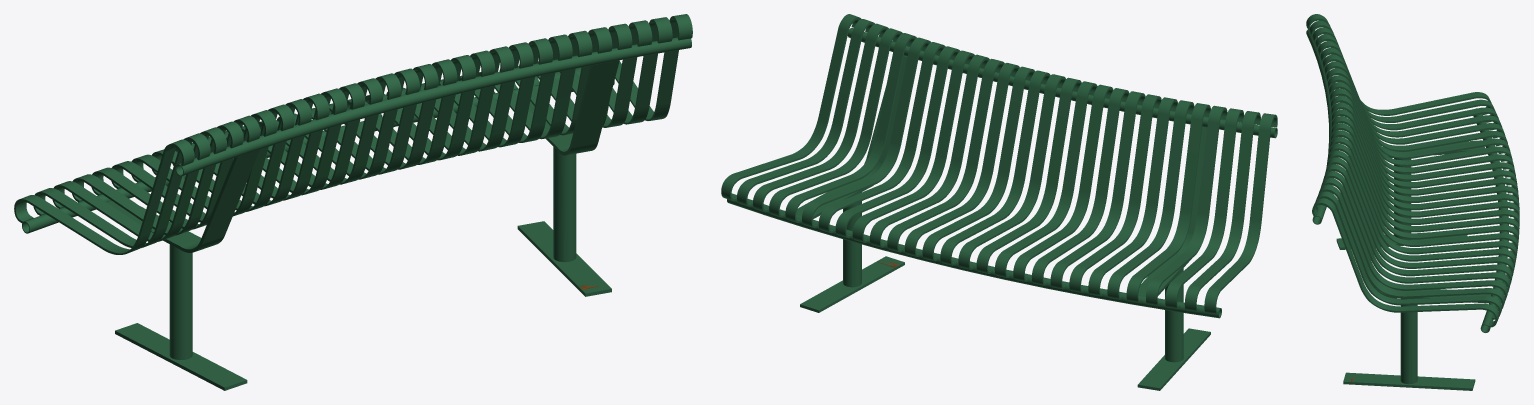
The picture shows the model from 3 angles, left to right: view 1: azimuth 30°, elevation 25°; view 2: azimuth 150°, elevation 25°; view 3: azimuth 270°, elevation 25°; orthographic projection. The views are drawn at different scales.
Visible parts, largest first — view 1: mesh7_mesh7-geometry, mesh3_mesh3-geometry, mesh6_mesh6-geometry, mesh1_mesh1-geometry, mesh22_mesh22-geometry, mesh27_mesh27-geometry, mesh26_mesh26-geometry, mesh30_mesh30-geometry, mesh21_mesh21-geometry, mesh24_mesh24-geometry, mesh16_mesh16-geometry, mesh15_mesh15-geometry (+20 smaller); view 2: mesh3_mesh3-geometry, mesh7_mesh7-geometry, mesh4_mesh4-geometry, mesh30_mesh30-geometry, mesh11_mesh11-geometry, mesh9_mesh9-geometry, mesh20_mesh20-geometry, mesh10_mesh10-geometry, mesh27_mesh27-geometry, mesh8_mesh8-geometry, mesh28_mesh28-geometry, mesh1_mesh1-geometry (+20 smaller); view 3: mesh3_mesh3-geometry, mesh21_mesh21-geometry, mesh32_mesh32-geometry, mesh25_mesh25-geometry, mesh19_mesh19-geometry, mesh23_mesh23-geometry, mesh24_mesh24-geometry, mesh16_mesh16-geometry, mesh15_mesh15-geometry, mesh17_mesh17-geometry, mesh14_mesh14-geometry, mesh12_mesh12-geometry (+20 smaller).
Part boxes in pixels (x1,y1,x2,y2): mesh7_mesh7-geometry: [107, 149, 259, 390]; mesh3_mesh3-geometry: [517, 60, 619, 296]; mesh6_mesh6-geometry: [175, 37, 691, 176]; mesh1_mesh1-geometry: [14, 139, 194, 254]; mesh22_mesh22-geometry: [33, 133, 210, 247]; mesh27_mesh27-geometry: [52, 127, 226, 241]; mesh26_mesh26-geometry: [72, 121, 243, 235]; mesh30_mesh30-geometry: [91, 115, 260, 229]; mesh21_mesh21-geometry: [615, 14, 692, 120]; mesh24_mesh24-geometry: [478, 30, 592, 139]; mesh16_mesh16-geometry: [459, 34, 572, 142]; mesh15_mesh15-geometry: [439, 38, 552, 147]; mesh3_mesh3-geometry: [796, 55, 907, 312]; mesh7_mesh7-geometry: [1137, 126, 1210, 390]; mesh4_mesh4-geometry: [727, 193, 1221, 318]; mesh30_mesh30-geometry: [1126, 103, 1210, 302]; mesh11_mesh11-geometry: [1107, 100, 1194, 299]; mesh9_mesh9-geometry: [1088, 97, 1177, 296]; mesh20_mesh20-geometry: [1050, 91, 1145, 289]; mesh10_mesh10-geometry: [1069, 94, 1161, 292]; mesh27_mesh27-geometry: [1165, 108, 1244, 308]; mesh8_mesh8-geometry: [994, 81, 1097, 277]; mesh28_mesh28-geometry: [1031, 88, 1129, 285]; mesh1_mesh1-geometry: [1204, 113, 1277, 314]; mesh3_mesh3-geometry: [1329, 192, 1491, 390]; mesh21_mesh21-geometry: [1312, 198, 1498, 327]; mesh32_mesh32-geometry: [1315, 191, 1502, 319]; mesh25_mesh25-geometry: [1318, 185, 1505, 311]; mesh19_mesh19-geometry: [1320, 178, 1507, 303]; mesh23_mesh23-geometry: [1322, 171, 1510, 295]; mesh24_mesh24-geometry: [1324, 164, 1512, 287]; mesh16_mesh16-geometry: [1326, 157, 1514, 279]; mesh15_mesh15-geometry: [1327, 150, 1515, 270]; mesh17_mesh17-geometry: [1329, 144, 1517, 262]; mesh14_mesh14-geometry: [1330, 137, 1518, 254]; mesh12_mesh12-geometry: [1330, 130, 1518, 246].
Bounding box in the file's own units: 0.8575 × 0.3731 × 0.3544.
